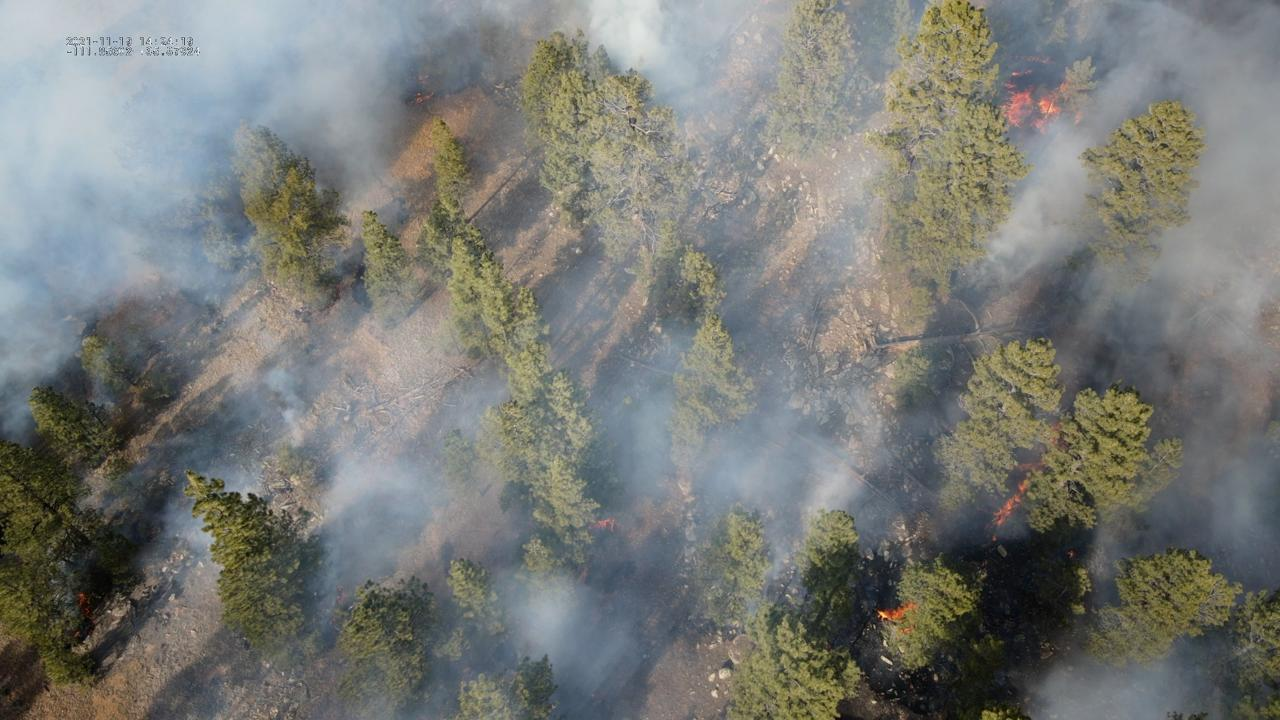fire: (993, 80, 1069, 130), (983, 479, 1029, 541), (872, 600, 917, 633), (1043, 418, 1067, 449), (76, 591, 95, 619), (587, 515, 617, 531), (1009, 460, 1045, 472), (414, 92, 435, 104), (1066, 549, 1076, 562), (1023, 68, 1033, 75), (1011, 72, 1020, 77)
smoke: (0, 0, 1280, 720)
